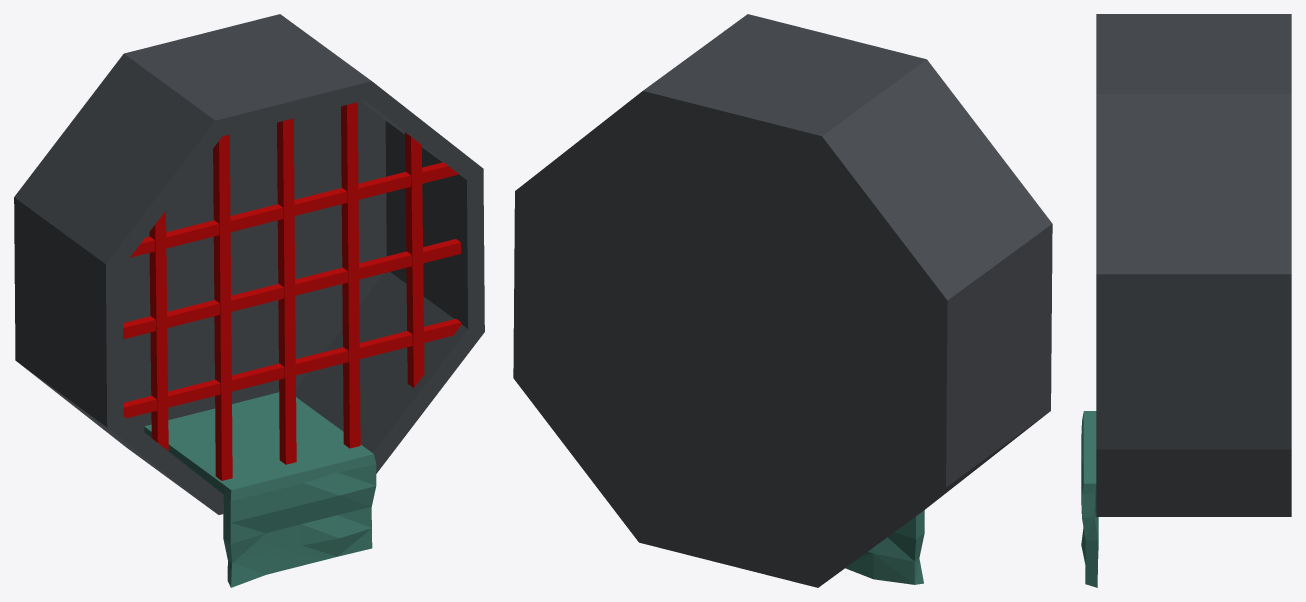
The model's file is SM_sewage_01.glb.
3 renders of one model, left to right at view 1: azimuth 30°, elevation 25°; view 2: azimuth 150°, elevation 25°; view 3: azimuth 270°, elevation 25°, orthographic. The views are drawn at different scales.
Parts seen in each view (by area): view 1: SM_sewage_01; view 2: SM_sewage_01; view 3: SM_sewage_01.
Part boxes in pixels (box(x1,y1,x2,y2)): SM_sewage_01: box(14, 14, 484, 587); SM_sewage_01: box(513, 14, 1052, 587); SM_sewage_01: box(1081, 14, 1291, 587).
Bounding box in the file's own units: 1.85 × 2.18 × 0.8366.
1 material, 1 textured.
